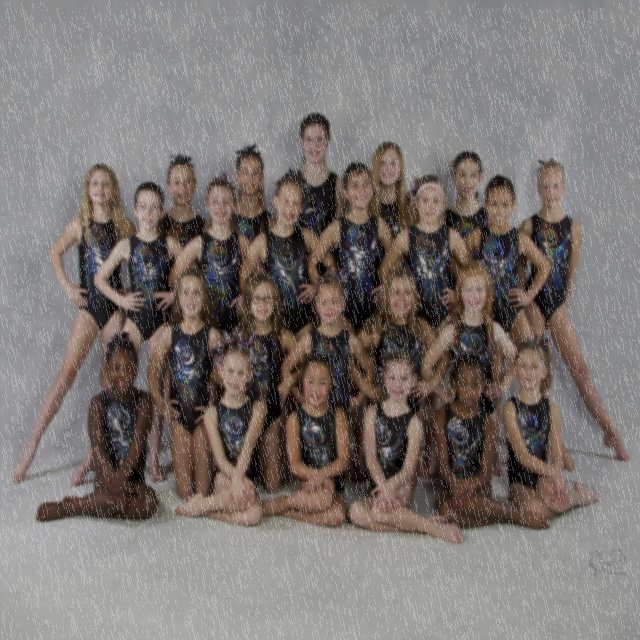pessoa: (10, 162, 144, 489), (66, 178, 204, 487), (452, 173, 576, 481), (516, 149, 630, 468), (306, 159, 404, 482), (34, 326, 160, 524), (346, 346, 464, 544), (432, 350, 552, 534), (499, 330, 602, 520), (146, 265, 228, 501), (171, 341, 266, 528), (230, 271, 306, 492), (237, 172, 335, 339), (421, 261, 519, 425), (261, 353, 350, 529), (166, 178, 266, 334), (377, 171, 475, 327), (280, 276, 377, 423), (360, 265, 450, 408), (435, 150, 490, 292), (367, 139, 418, 290), (296, 112, 351, 238), (161, 151, 212, 251), (232, 140, 278, 243)
